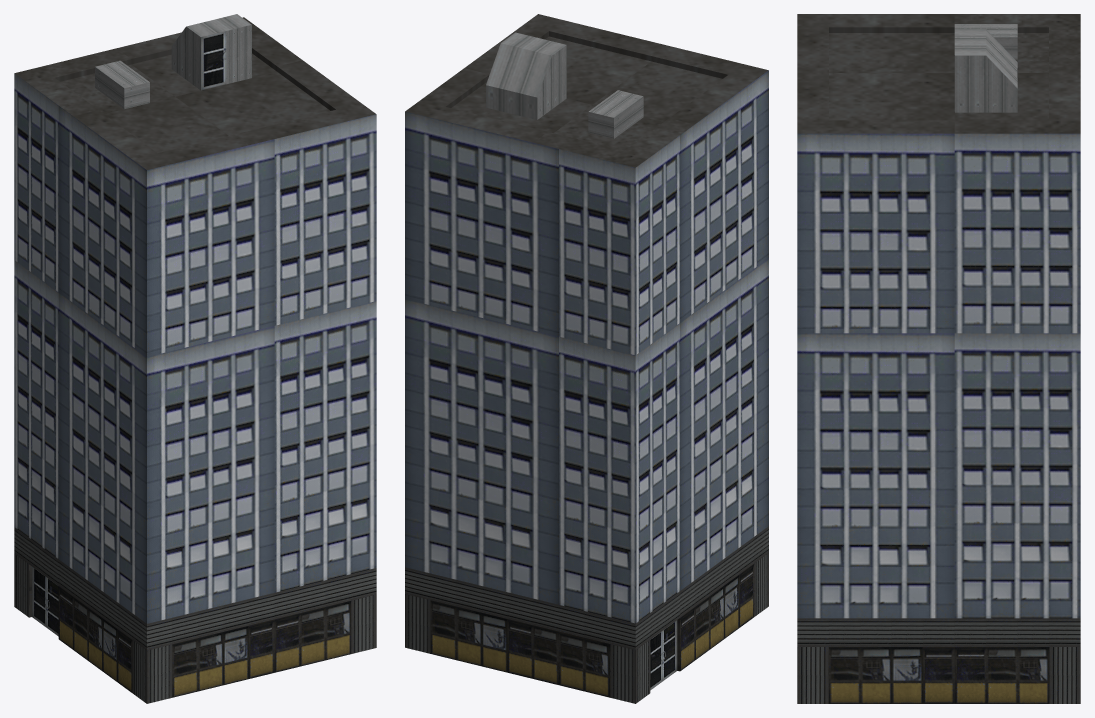
Rendered from building4_1.fbx.
3 renders of one model, left to right at view 1: azimuth 30°, elevation 25°; view 2: azimuth 150°, elevation 25°; view 3: azimuth 270°, elevation 25°, orthographic. The views are drawn at different scales.
Visible parts, largest first — view 1: building4_1; view 2: building4_1; view 3: building4_1.
Part boxes in pixels (x1,y1,x2,y2): building4_1: [14, 14, 376, 703]; building4_1: [405, 14, 768, 703]; building4_1: [797, 14, 1080, 703].
Bounding box in the file's own units: 1000 × 1000 × 2422.
Materials: 1 (1 with a texture image).
